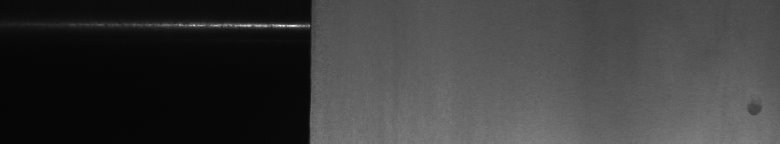fi: (744, 100, 765, 120)
